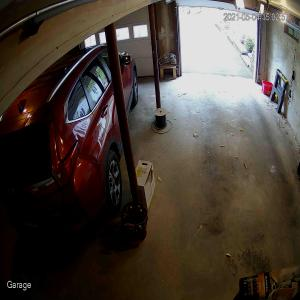honda crv: (0, 43, 139, 252)
tool bucket: (119, 200, 149, 247)
